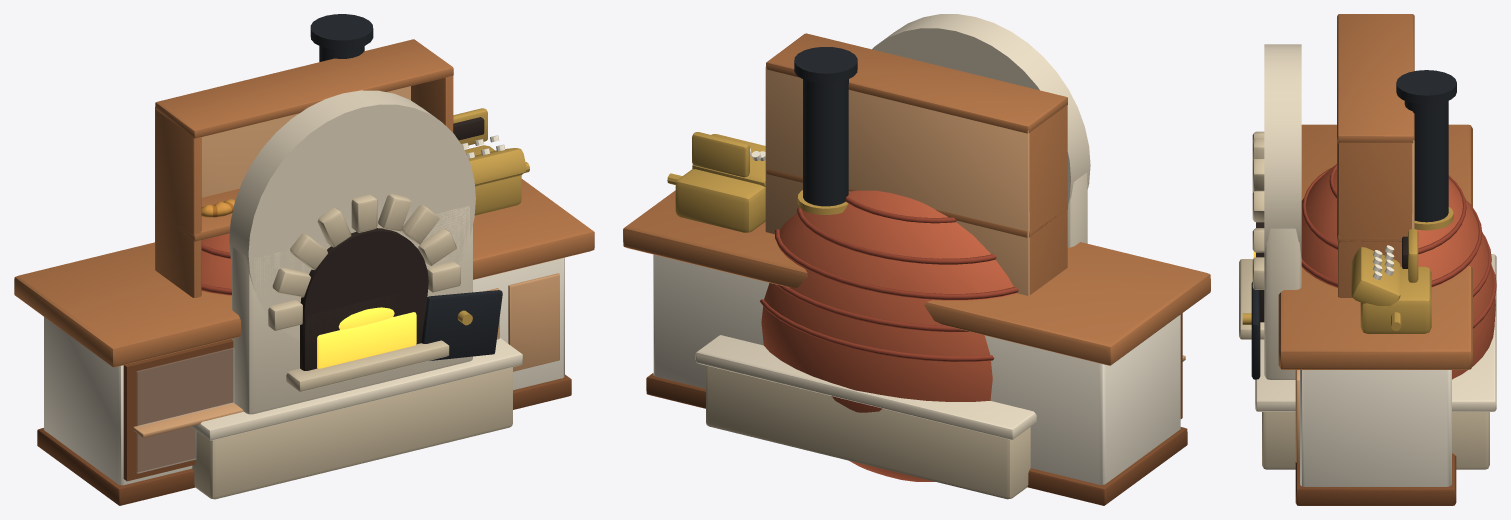
Rendered from props.glb.
The picture shows the model from 3 angles, left to right: view 1: azimuth 30°, elevation 25°; view 2: azimuth 150°, elevation 25°; view 3: azimuth 270°, elevation 25°; orthographic projection. The views are drawn at different scales.
Visible parts, largest first — view 1: P_oven, P_counter, P_bread_shelf; view 2: P_oven, P_counter, P_bread_shelf; view 3: P_counter, P_oven, P_bread_shelf.
Part boxes in pixels (left/top/right/bottom): P_oven: left=191, top=14, right=522, bottom=499; P_counter: left=14, top=108, right=594, bottom=505; P_bread_shelf: left=155, top=39, right=453, bottom=297; P_oven: left=695, top=14, right=1090, bottom=499; P_counter: left=623, top=132, right=1210, bottom=505; P_bread_shelf: left=765, top=33, right=1067, bottom=295; P_counter: left=1278, top=124, right=1472, bottom=505; P_oven: left=1239, top=44, right=1496, bottom=469; P_bread_shelf: left=1337, top=14, right=1414, bottom=297.
Bounding box in the file's own units: 3.2 × 2.57 × 1.53.
